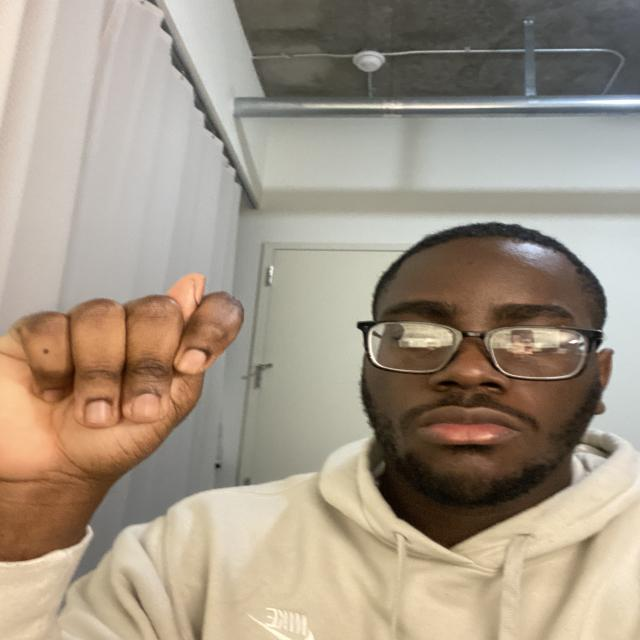Bathroom: (15, 256, 235, 490)
